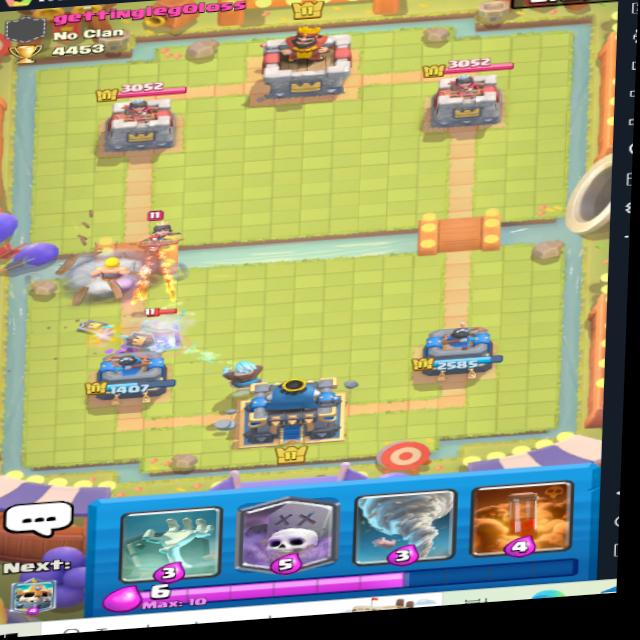Guards: (140, 298, 186, 350)
Princess: (139, 208, 179, 256)
